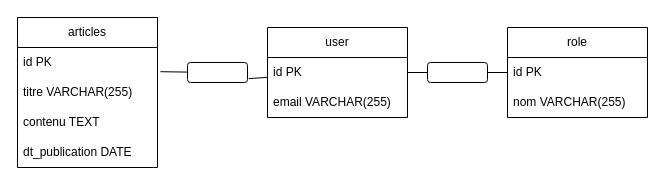
The diagram is 665 pixels wide and 185 high, and some of its shapes have lost their labels. The shapes that lost their labels are listed below. From the top down, each one's centre as x and y in pixels, then its label:
the point at 217,72: rediger
the point at 457,72: est
